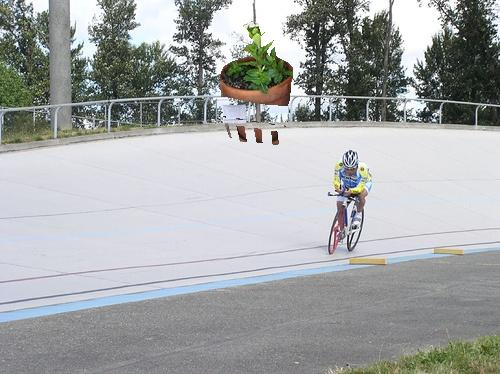tampered: (221, 22, 293, 145)
